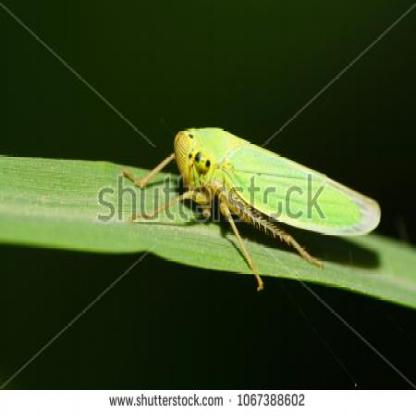Green-Leafhopper: (134, 119, 382, 282)
